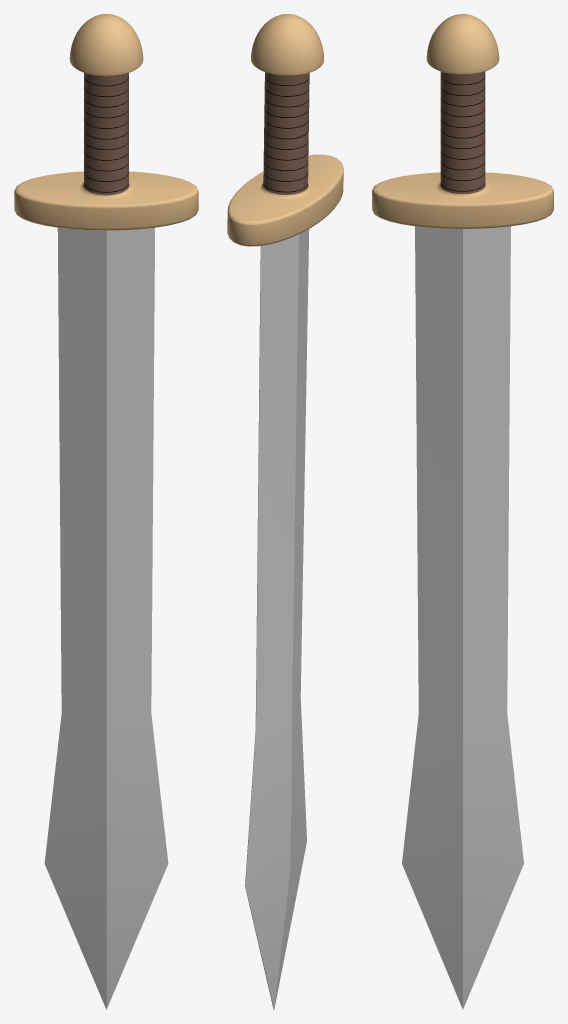
File: Sword-transformed.glb
3 views of the same model, side by side, from view 1: azimuth 90°, elevation 25°; view 2: azimuth 150°, elevation 25°; view 3: azimuth 270°, elevation 25° (orthographic).
Parts seen in each view (by area): view 1: Sword_Material.002_0, Sword_Material.004_0, Sword_Material.005_0; view 2: Sword_Material.002_0, Sword_Material.004_0, Sword_Material.005_0; view 3: Sword_Material.002_0, Sword_Material.004_0, Sword_Material.005_0.
Part boxes in pixels (x1=…): Sword_Material.002_0: x1=44, y1=227, x2=168, y2=1009; Sword_Material.004_0: x1=14, y1=14, x2=198, y2=230; Sword_Material.005_0: x1=83, y1=73, x2=129, y2=195; Sword_Material.002_0: x1=245, y1=229, x2=309, y2=1009; Sword_Material.004_0: x1=227, y1=14, x2=343, y2=246; Sword_Material.005_0: x1=263, y1=72, x2=309, y2=194; Sword_Material.002_0: x1=402, y1=226, x2=523, y2=1009; Sword_Material.004_0: x1=372, y1=14, x2=553, y2=228; Sword_Material.005_0: x1=440, y1=71, x2=485, y2=193.
Bounding box in the file's own units: 0.183 × 2.42 × 0.4046.
Materials: 3 (1 with a texture image).
